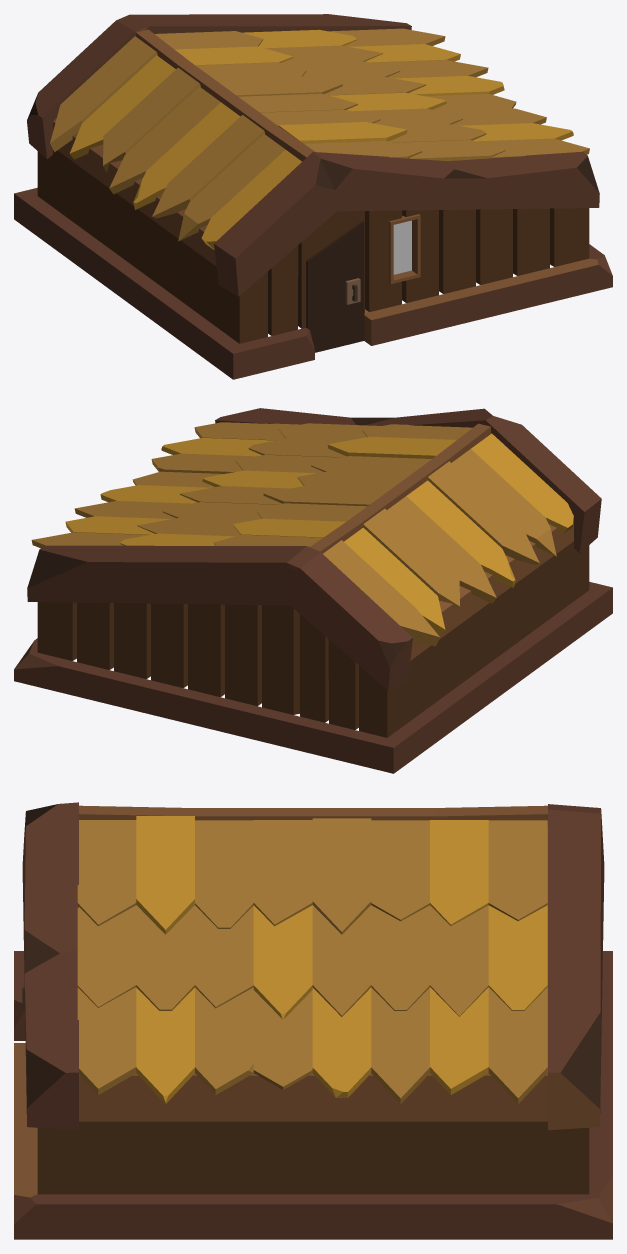
File: SM_Hous_08_A.gltf
3 views of the same model, one above another, from view 1: azimuth 30°, elevation 25°; view 2: azimuth 150°, elevation 25°; view 3: azimuth 270°, elevation 25° (orthographic). The views are drawn at different scales.
Parts seen in each view (by area): view 1: SM_Hous_08_A; view 2: SM_Hous_08_A; view 3: SM_Hous_08_A.
Boxes of the visible parts, left/top/right/bottom form: SM_Hous_08_A: left=14, top=14, right=612, bottom=379; SM_Hous_08_A: left=14, top=408, right=612, bottom=773; SM_Hous_08_A: left=14, top=802, right=612, bottom=1239.
Bounding box in the file's own units: 7.18 × 3.16 × 6.78.
